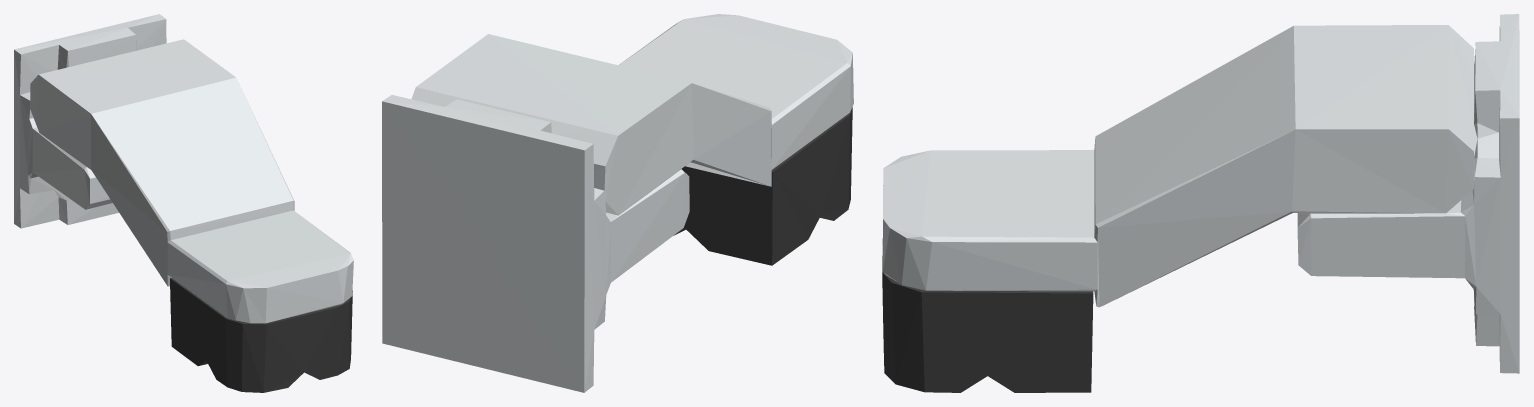
The model's file is finger.obj.
3 renders of one model, left to right at view 1: azimuth 30°, elevation 25°; view 2: azimuth 150°, elevation 25°; view 3: azimuth 270°, elevation 25°, orthographic. The views are drawn at different scales.
Visible parts, largest first — view 1: node1, node0; view 2: node1, node0; view 3: node1, node0.
Part boxes in pixels (x1=…): node1: x1=14, y1=14, x2=353, y2=323; node0: x1=170, y1=278, x2=352, y2=392; node1: x1=382, y1=14, x2=853, y2=392; node0: x1=673, y1=107, x2=852, y2=265; node1: x1=882, y1=14, x2=1519, y2=373; node0: x1=882, y1=238, x2=1093, y2=392.
Bounding box in the file's own units: 0.021 × 0.0264 × 0.0538.
Materials: 1 (1 with a texture image).
